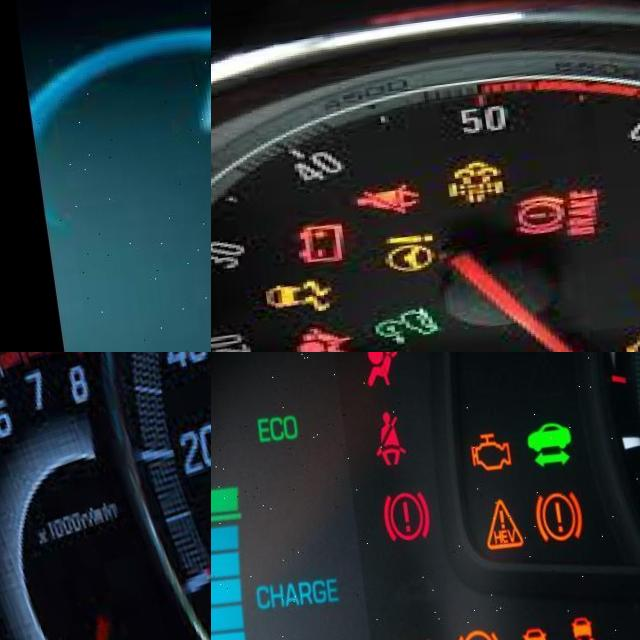Electronic Power Steering: (370, 239, 427, 282)
Seat Belt: (340, 188, 415, 229), (361, 414, 397, 478)
